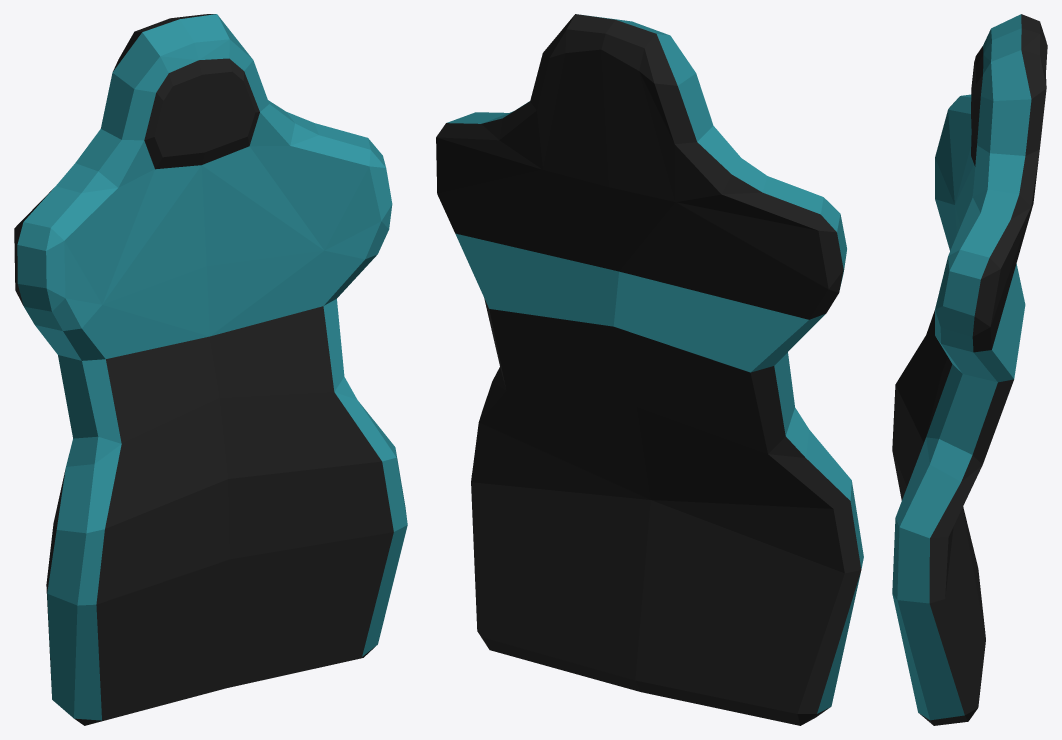
Rendered from Gaming_Chair_Back_2.obj.
The picture shows the model from 3 angles, left to right: view 1: azimuth 30°, elevation 25°; view 2: azimuth 150°, elevation 25°; view 3: azimuth 270°, elevation 25°; orthographic projection. The views are drawn at different scales.
Parts seen in each view (by area): view 1: Gaming_Chair_Back_2; view 2: Gaming_Chair_Back_2; view 3: Gaming_Chair_Back_2.
Boxes of the visible parts, left/top/right/bottom form: Gaming_Chair_Back_2: left=14, top=14, right=407, bottom=725; Gaming_Chair_Back_2: left=436, top=14, right=863, bottom=725; Gaming_Chair_Back_2: left=892, top=14, right=1047, bottom=725.
Size of the model in its own units: 0.6055 by 0.9972 by 0.2228.
